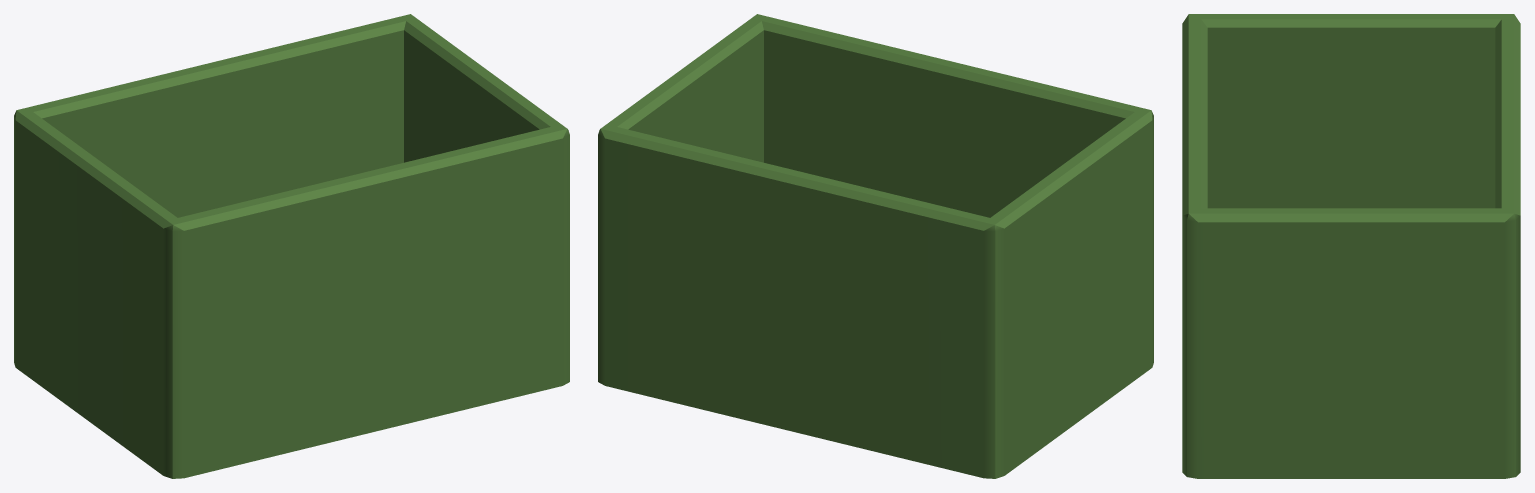
File: boxBookCase.fbx
3 renders of one model, left to right at view 1: azimuth 30°, elevation 25°; view 2: azimuth 150°, elevation 25°; view 3: azimuth 270°, elevation 25°, orthographic. The views are drawn at different scales.
Parts seen in each view (by area): view 1: bokhyllaKorg; view 2: bokhyllaKorg; view 3: bokhyllaKorg.
Boxes of the visible parts, bbox=[...] form: bokhyllaKorg: bbox=[14, 14, 569, 478]; bokhyllaKorg: bbox=[598, 14, 1153, 478]; bokhyllaKorg: bbox=[1182, 14, 1520, 478].
Size of the model in its own units: 1.43 by 0.8566 by 1.
